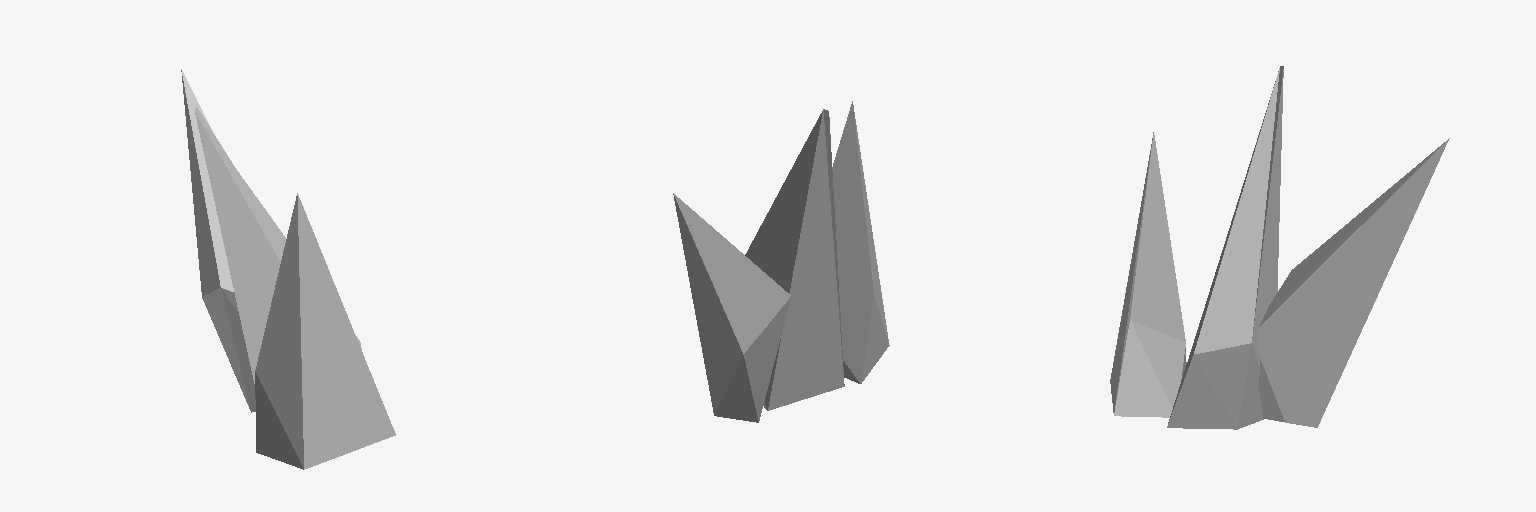
File: Aloe.obj
3 views of the same model, side by side, from view 1: azimuth 30°, elevation 25°; view 2: azimuth 150°, elevation 25°; view 3: azimuth 270°, elevation 25° (orthographic).
Parts seen in each view (by area): view 1: Cube; view 2: Cube; view 3: Cube.
Part boxes in pixels (left/top/right/bottom): Cube: left=181, top=69, right=395, bottom=469; Cube: left=673, top=101, right=889, bottom=422; Cube: left=1110, top=66, right=1449, bottom=429.
Bounding box in the file's own units: 2.65 × 6.71 × 6.35.